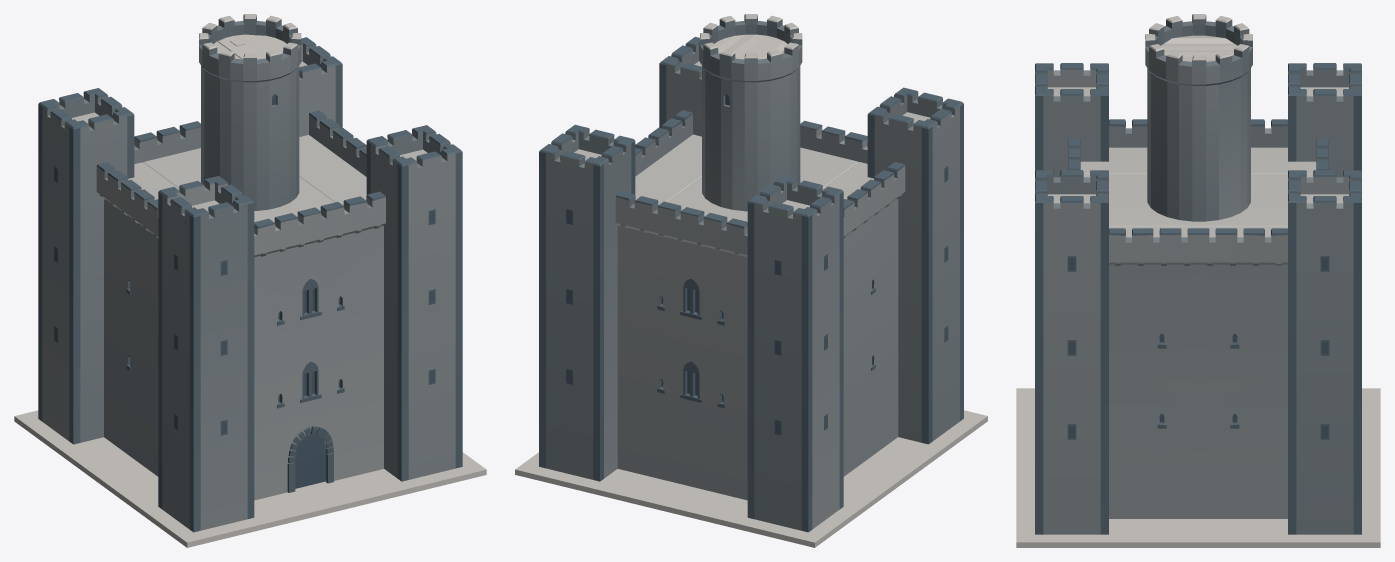
Rendered from Castle.fbx.
3 renders of one model, left to right at view 1: azimuth 30°, elevation 25°; view 2: azimuth 150°, elevation 25°; view 3: azimuth 270°, elevation 25°, orthographic. The views are drawn at different scales.
Parts seen in each view (by area): view 1: Castle; view 2: Castle; view 3: Castle.
Part boxes in pixels (left/top/right/bottom): Castle: left=14, top=14, right=486, bottom=547; Castle: left=515, top=14, right=987, bottom=547; Castle: left=1016, top=14, right=1380, bottom=547.
Size of the model in its own units: 1452 by 1911 by 1452.
